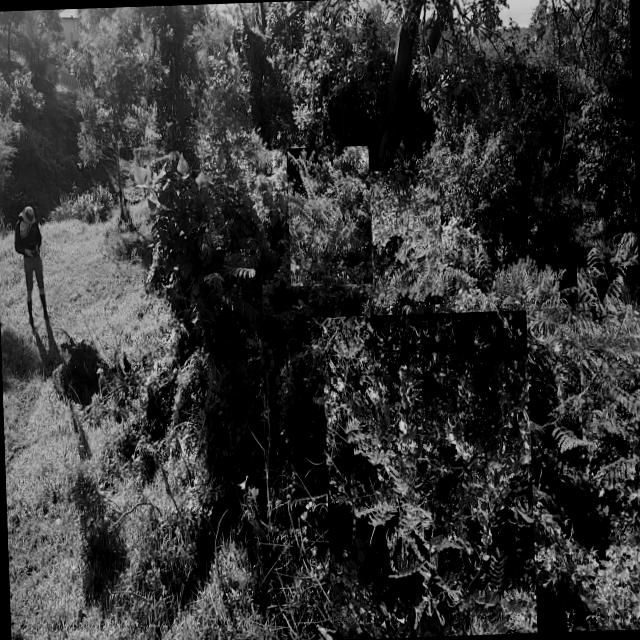Mysore-Thorn-Weed: (321, 310, 537, 640), (286, 145, 373, 286), (576, 265, 640, 441), (370, 169, 443, 306), (200, 248, 262, 323)
